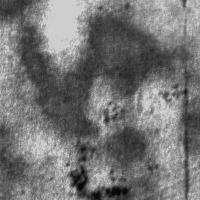patches: (18, 17, 170, 134), (115, 0, 200, 60), (63, 140, 131, 197), (95, 124, 155, 185), (1, 1, 50, 30)
